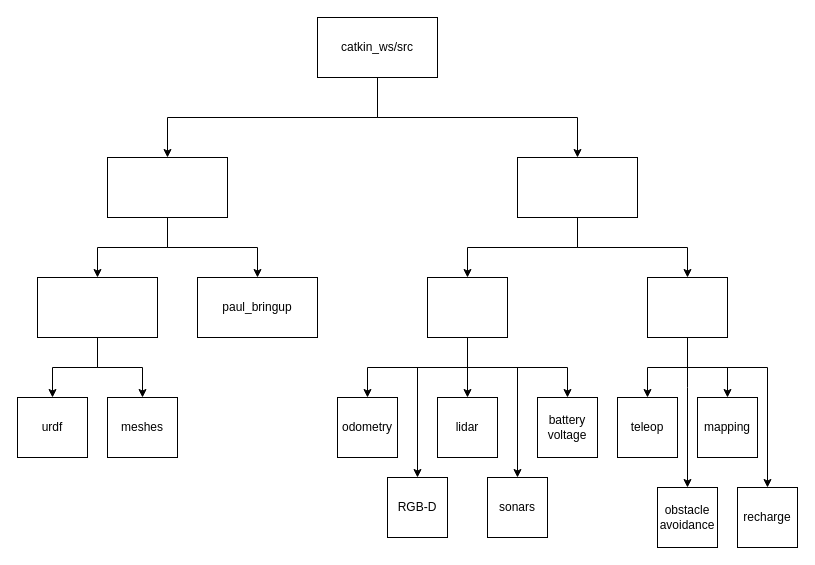
This 815x565 diagram has some shape labels left out. Each missing label, with the centre of its shape:
behaviour: (687,307)
framework: (577,187)
paul: (167,187)
paul_description: (97,307)
perception: (467,307)
